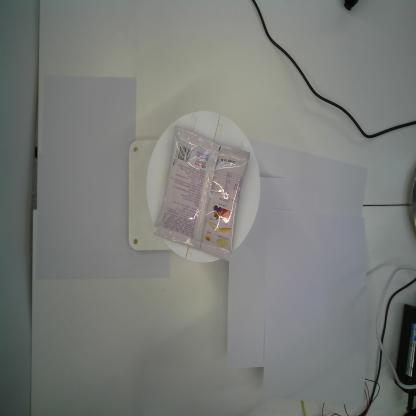Instant Drink: (152, 125, 252, 263)
